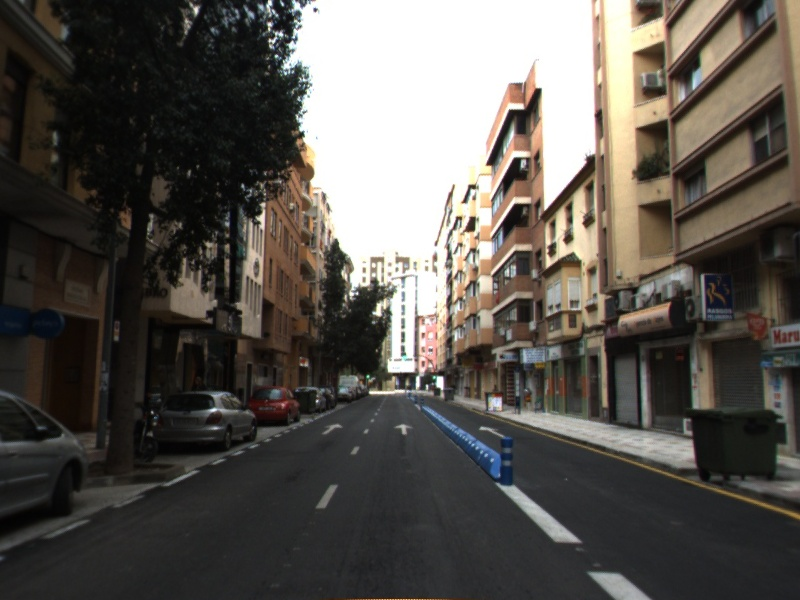STRAIGHT: (477, 424, 506, 438), (320, 422, 345, 436), (392, 422, 415, 436)
